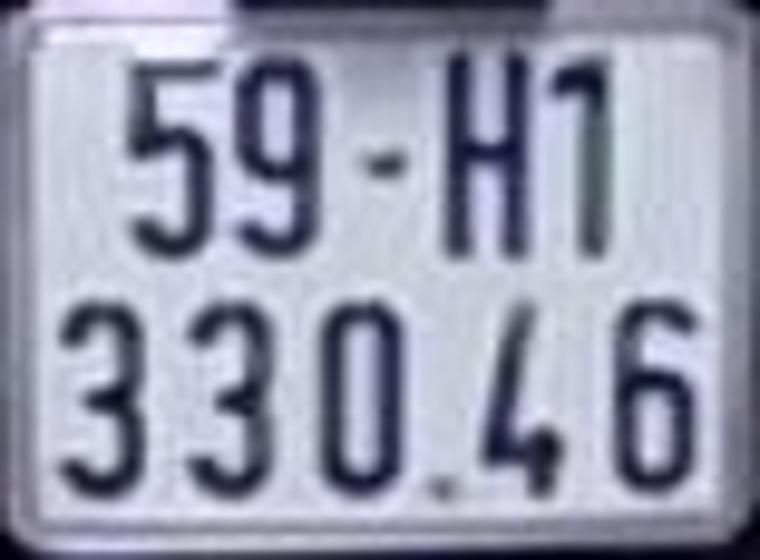-: (362, 149, 406, 187)
.: (432, 467, 460, 508)
0: (312, 300, 408, 492)
1: (551, 51, 621, 267)
3: (57, 305, 157, 497), (179, 305, 281, 491)
4: (473, 300, 574, 502)
5: (123, 55, 228, 257)
6: (609, 292, 700, 496)
9: (232, 50, 328, 258)
H: (446, 48, 537, 270)
